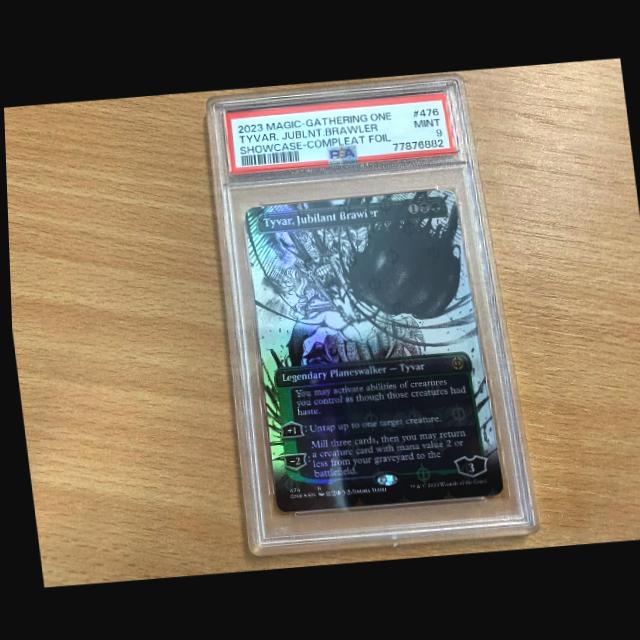card: (241, 187, 501, 513)
psa_label: (221, 90, 455, 175)
psa_slab: (206, 72, 539, 557)
